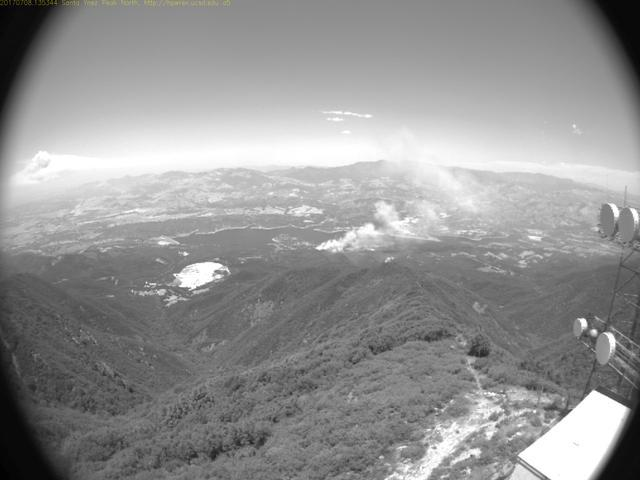smoke: (308, 128, 499, 251)
